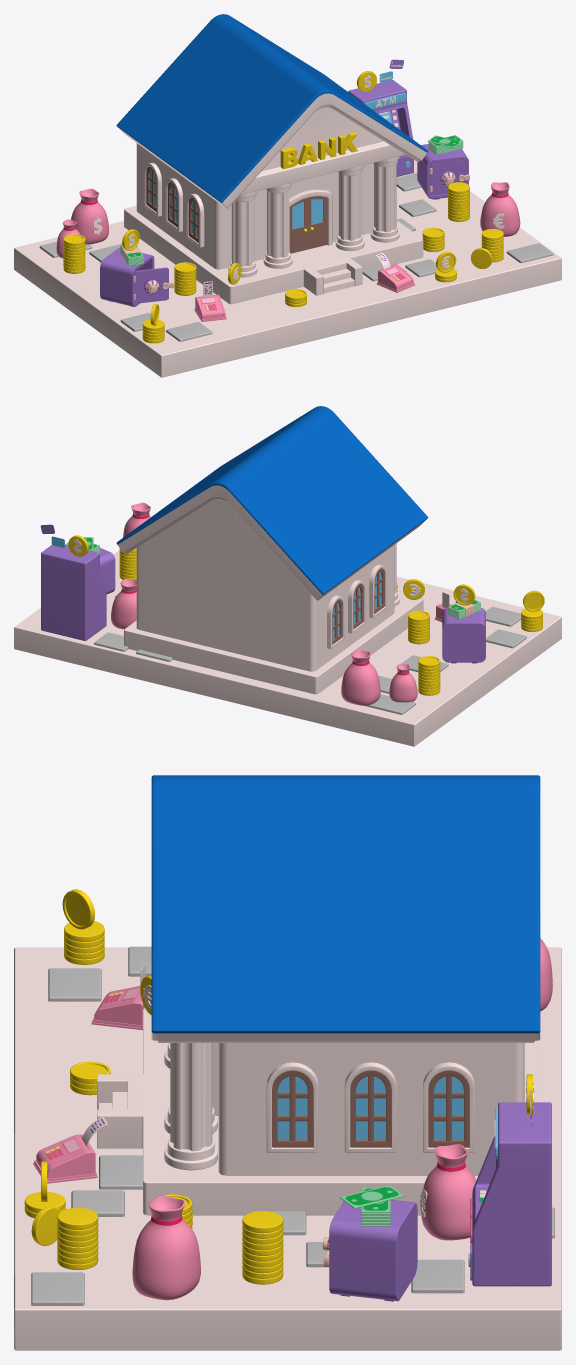
File: Public_Island_1.glb
The picture shows the model from 3 angles, top to bottom: view 1: azimuth 30°, elevation 25°; view 2: azimuth 150°, elevation 25°; view 3: azimuth 270°, elevation 25°; orthographic projection. The views are drawn at different scales.
Visible parts, largest first — view 1: Public_1_Bank_1, Public_1_Base_1, Public_1_Safe_2, Public_1_ATM, Public_1_Safe_1, Public_1_Money_Bag_Euro_1, Public_1_Money_Bag_Dollar_1, Public_1_Stack_of_Coins_5, Public_1_Stack_of_Coins_1, Public_1_Payment_Terminal_1, Public_1_Stack_of_Coins_6, Public_1_Payment_Terminal_2 (+3 smaller); view 2: Public_1_Bank_1, Public_1_Base_1, Public_1_ATM, Public_1_Safe_2, Public_1_Money_Bag_Dollar_1, Public_1_Money_Bag_Euro_2, Public_1_Stack_of_Coins_5, Public_1_Money_Bag_Dollar_2, Public_1_Stack_of_Coins_6, Public_1_Safe_1, Public_1_Stack_of_Coins_1, Public_1_Money_Bag_Euro_1 (+1 smaller); view 3: Public_1_Bank_1, Public_1_Base_1, Public_1_ATM, Public_1_Safe_1, Public_1_Money_Bag_Euro_1, Public_1_Money_Bag_Euro_2, Public_1_Stack_of_Coins_1, Public_1_Stack_of_Coins_2, Public_1_Payment_Terminal_1, Public_1_Payment_Terminal_2, Public_1_Stack_of_Coins_3, Public_1_Coin_1 (+5 smaller).
Boxes of the visible parts, x1=… form: Public_1_Bank_1: x1=116, y1=14, x2=428, y2=304; Public_1_Base_1: x1=14, y1=160, x2=561, y2=377; Public_1_Safe_2: x1=100, y1=247, x2=173, y2=306; Public_1_ATM: x1=348, y1=80, x2=413, y2=176; Public_1_Safe_1: x1=417, y1=144, x2=469, y2=199; Public_1_Money_Bag_Euro_1: x1=480, y1=182, x2=520, y2=236; Public_1_Money_Bag_Dollar_1: x1=71, y1=188, x2=108, y2=244; Public_1_Stack_of_Coins_5: x1=63, y1=234, x2=85, y2=273; Public_1_Stack_of_Coins_1: x1=448, y1=182, x2=469, y2=221; Public_1_Payment_Terminal_1: x1=376, y1=263, x2=415, y2=292; Public_1_Stack_of_Coins_6: x1=174, y1=262, x2=196, y2=295; Public_1_Payment_Terminal_2: x1=194, y1=294, x2=226, y2=321; Public_1_Bank_1: x1=116, y1=406, x2=427, y2=694; Public_1_Base_1: x1=14, y1=550, x2=561, y2=746; Public_1_ATM: x1=41, y1=545, x2=106, y2=640; Public_1_Safe_2: x1=442, y1=602, x2=485, y2=663; Public_1_Money_Bag_Dollar_1: x1=341, y1=649, x2=380, y2=705; Public_1_Money_Bag_Euro_2: x1=111, y1=579, x2=136, y2=629; Public_1_Stack_of_Coins_5: x1=418, y1=656, x2=440, y2=695; Public_1_Money_Bag_Dollar_2: x1=389, y1=664, x2=417, y2=702; Public_1_Stack_of_Coins_6: x1=408, y1=610, x2=429, y2=644; Public_1_Safe_1: x1=99, y1=548, x2=115, y2=594; Public_1_Stack_of_Coins_1: x1=119, y1=548, x2=136, y2=579; Public_1_Money_Bag_Euro_1: x1=123, y1=502, x2=150, y2=537; Public_1_Bank_1: x1=97, y1=775, x2=540, y2=1215; Public_1_Base_1: x1=14, y1=946, x2=561, y2=1350; Public_1_ATM: x1=468, y1=1102, x2=551, y2=1286; Public_1_Safe_1: x1=322, y1=1200, x2=417, y2=1301; Public_1_Money_Bag_Euro_1: x1=132, y1=1195, x2=200, y2=1300; Public_1_Money_Bag_Euro_2: x1=419, y1=1144, x2=476, y2=1240; Public_1_Stack_of_Coins_1: x1=242, y1=1211, x2=283, y2=1284; Public_1_Stack_of_Coins_2: x1=57, y1=1207, x2=98, y2=1269; Public_1_Payment_Terminal_1: x1=33, y1=1134, x2=97, y2=1183; Public_1_Payment_Terminal_2: x1=91, y1=986, x2=144, y2=1030; Public_1_Stack_of_Coins_3: x1=64, y1=921, x2=104, y2=964; Public_1_Coin_1: x1=62, y1=889, x2=94, y2=929.
Bounding box in the file's own units: 23.41 × 11.78 × 14.94.
34 materials, 34 textured.
